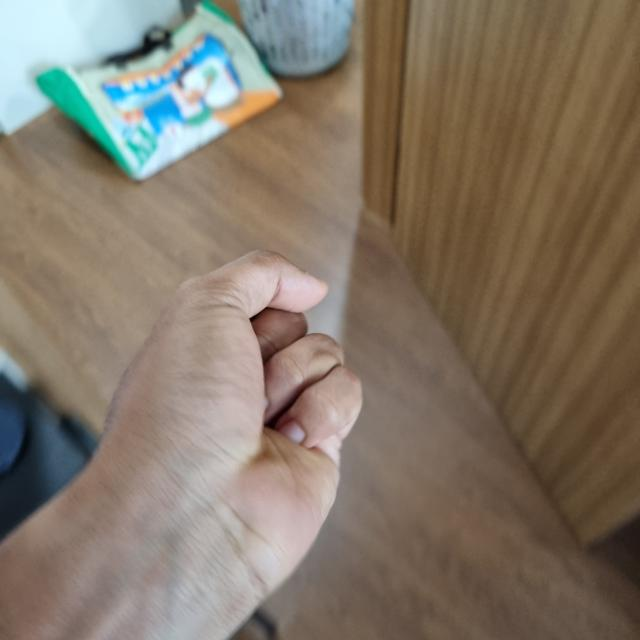Rock: (87, 249, 359, 574)
